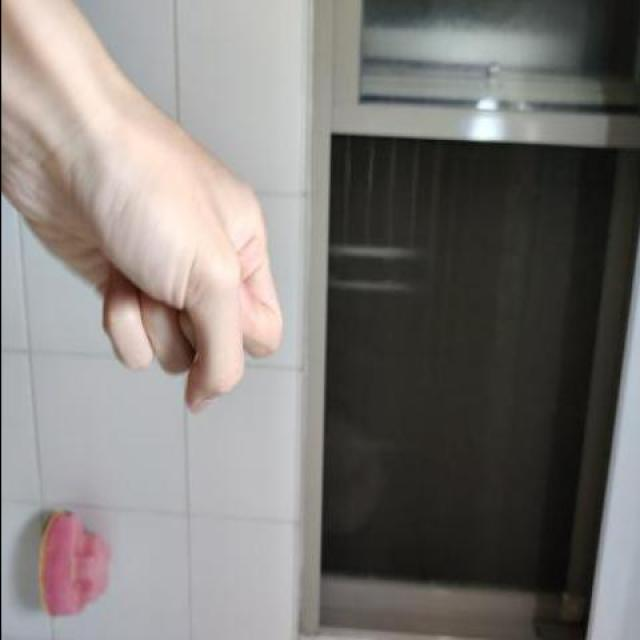Closed Hand: (1, 31, 286, 413)
